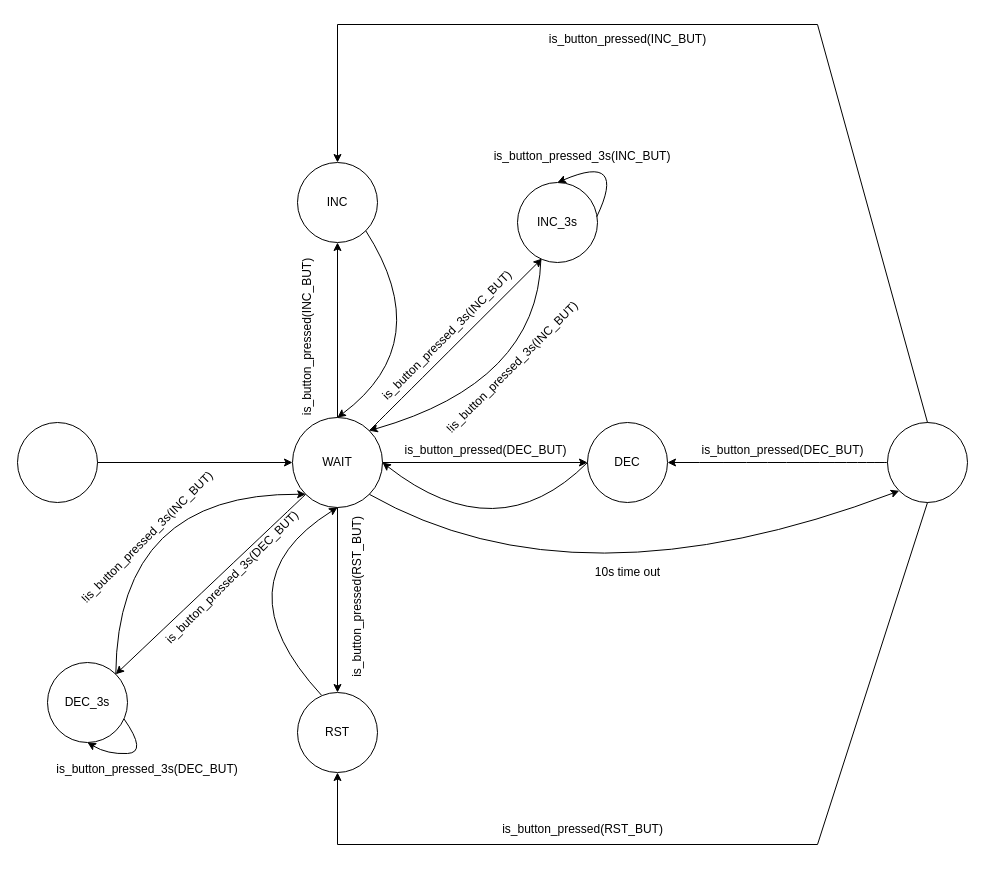
The diagram is 985 pixels wide and 870 high, and some of its shapes have lost their labels. The shapes that lost their labels are listed below. From the top down, each one's centre as x and y in pixels, then its label:
At [57,462]: "INIT".
At [927,462]: "AUTO".
